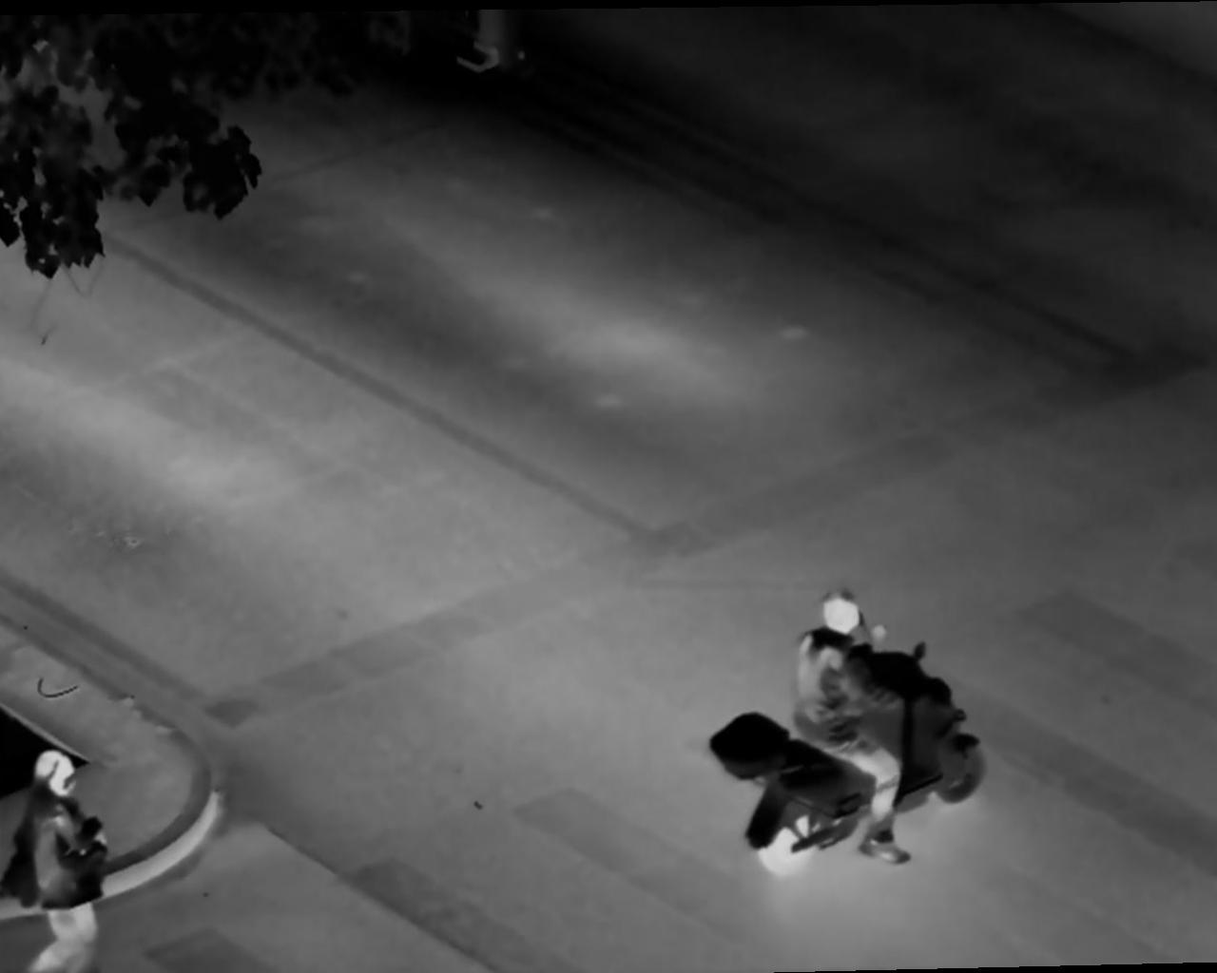person: (789, 588, 917, 877), (21, 747, 125, 959)
